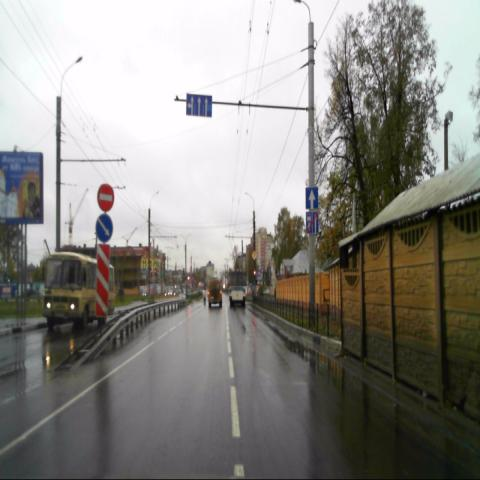3_1: (96, 184, 114, 212)
5_12: (306, 213, 318, 233)
5_5: (306, 186, 318, 208)
